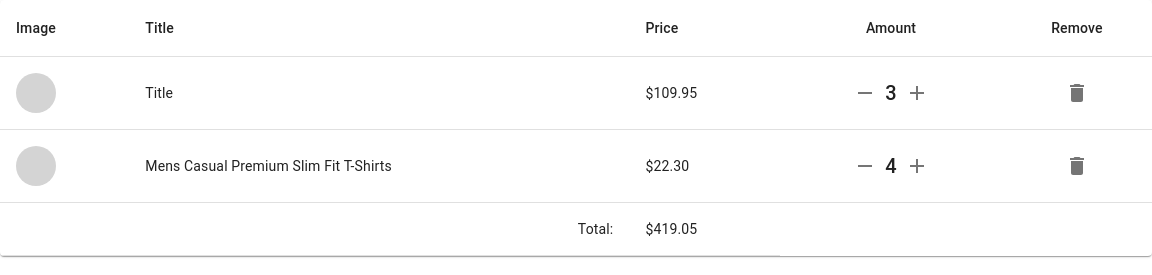
Cart › renders Cart component with products
Expected: the elements with test id "thead" read "Image", "Title", "Price", "Amount", "Remove", in this order, [0,0,129,56]; [129,0,629,56]; [629,0,780,56]; [780,0,1002,56]; [1002,0,1151,56]
Expected: the cell with test id "title" reads "Title", [145,85,173,101]
What coordinates should you click on to do the following:
click the button named "delete" in the row of "$109.95"
I would click on:
 (1077, 93)
Its box is [1057,73,1097,113].
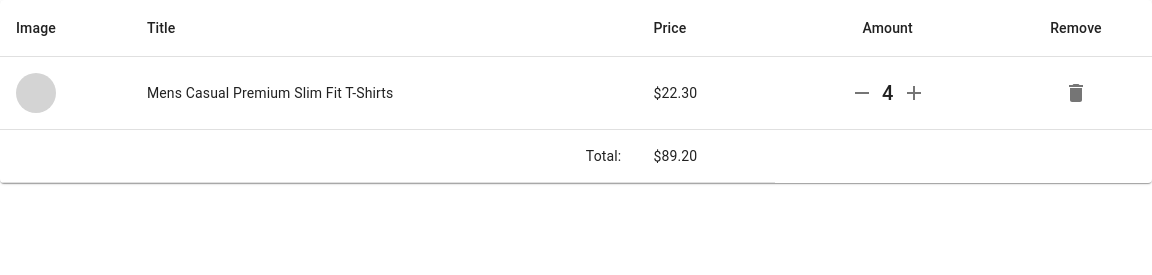
Expected: the text "Total:" is shown, [131,130,637,182]
Expected: the number of rows with test id "productItem" is 1, [0,56,1151,130]
